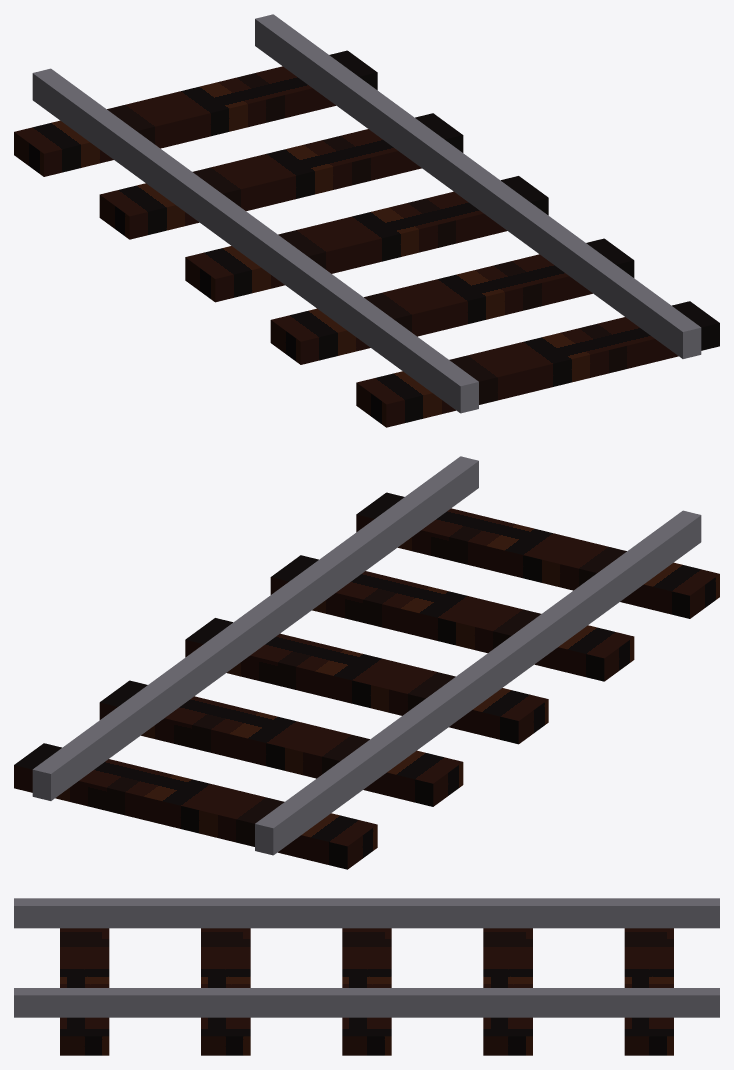
Rendered from rail_straight.glb.
The picture shows the model from 3 angles, top to bottom: view 1: azimuth 30°, elevation 25°; view 2: azimuth 150°, elevation 25°; view 3: azimuth 270°, elevation 25°; orthographic projection. The views are drawn at different scales.
Parts seen in each view (by area): view 1: rail_straight; view 2: rail_straight; view 3: rail_straight.
Part boxes in pixels (box(x1,y1,x2,y2)): rail_straight: box(14, 14, 719, 427); rail_straight: box(14, 456, 719, 869); rail_straight: box(14, 898, 719, 1055).
Bounding box in the file's own units: 0.9 × 0.13 × 2.
2 materials, 1 textured.
